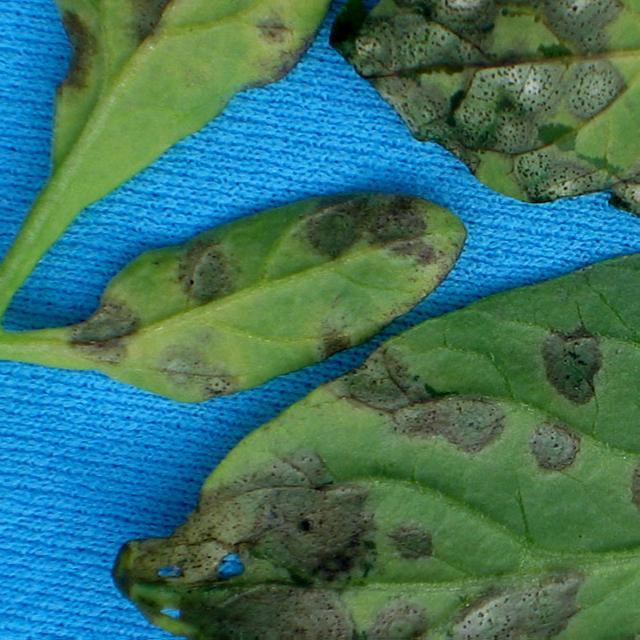Tomato Septoria leaf spot: (97, 248, 640, 640), (62, 186, 480, 409), (306, 0, 640, 247), (35, 0, 327, 245)
